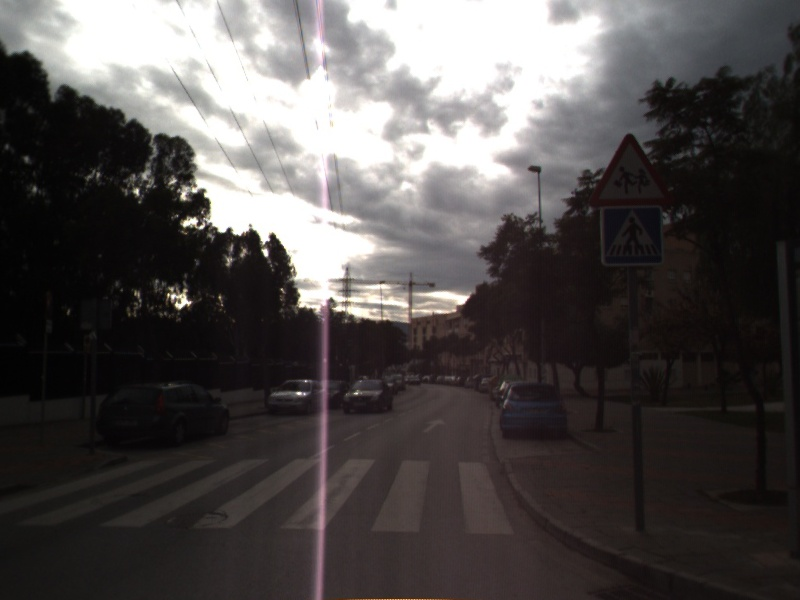STRAIGHT: (421, 416, 448, 434)
